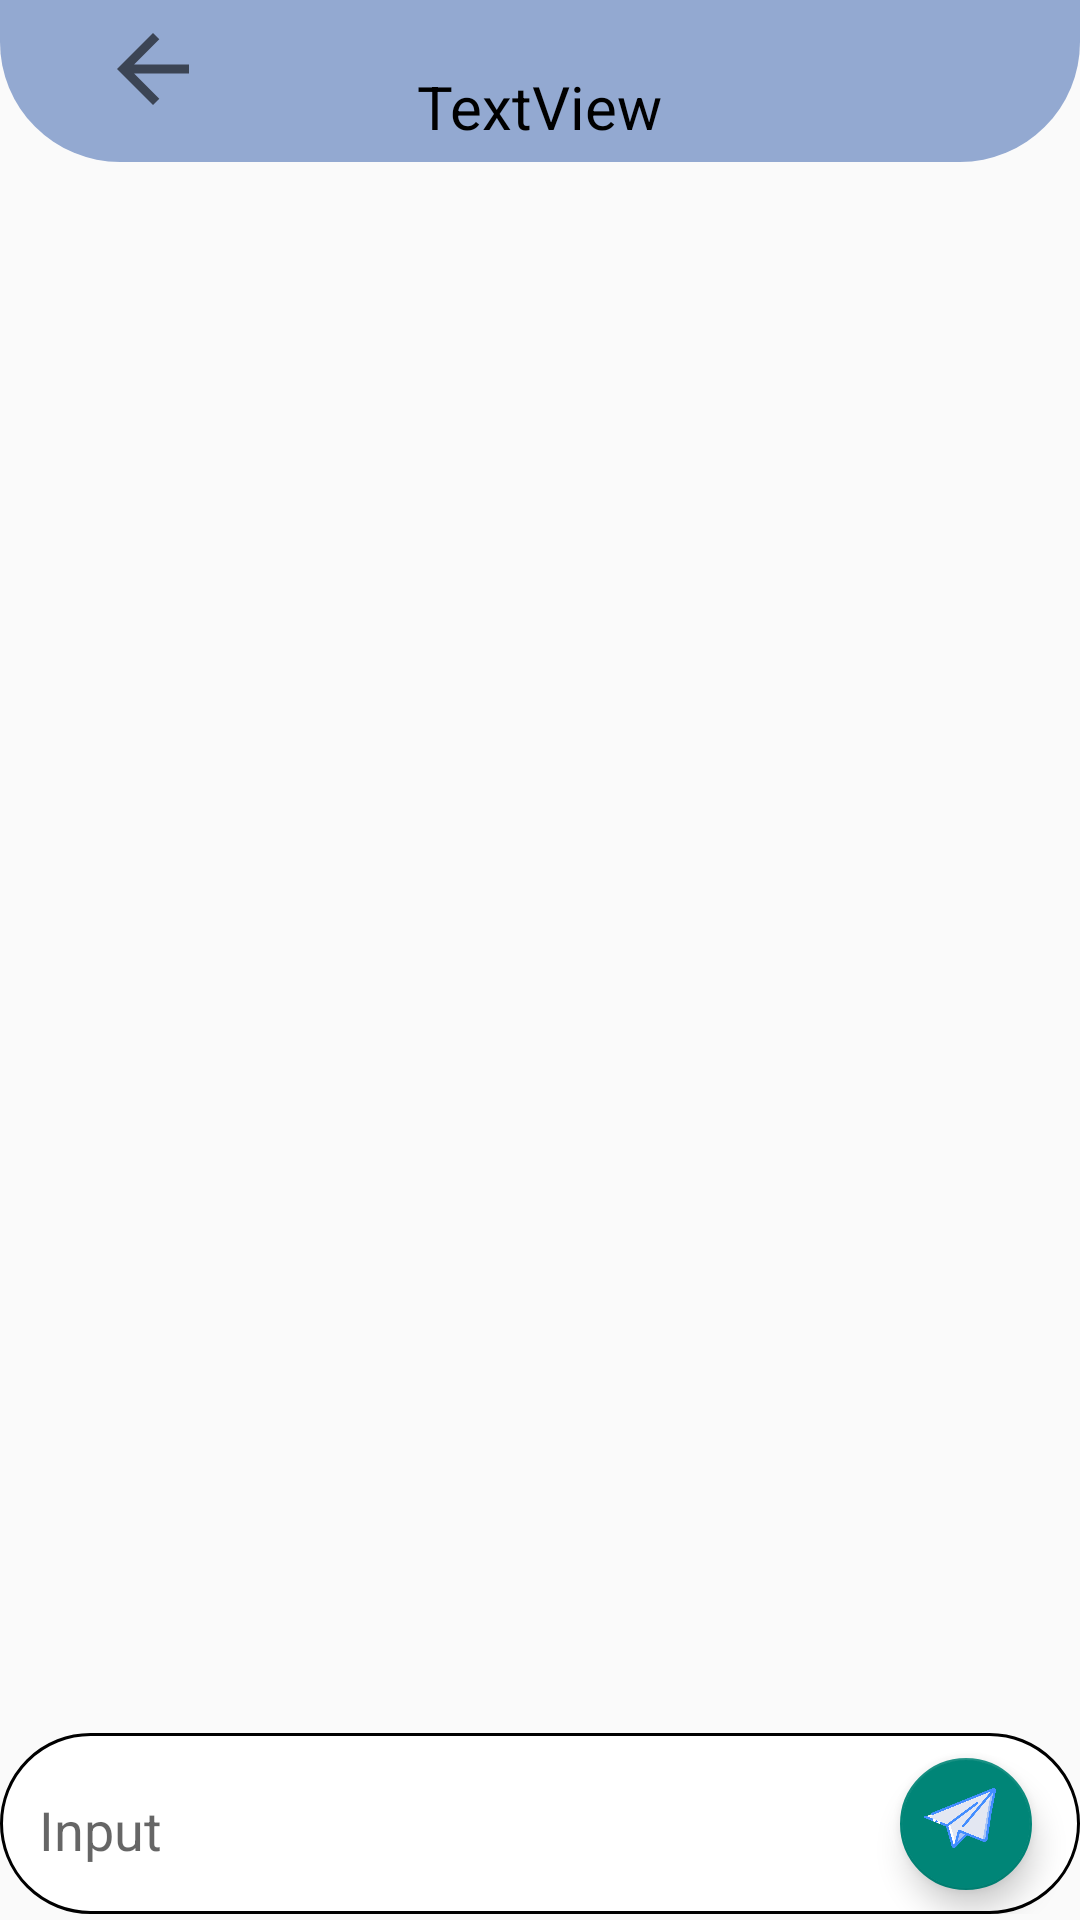

Icon bounding boxes for this 1080 x 1920 phone screenshot, format (x1, y1, x2, y2):
send: (900, 1758, 1032, 1890)
